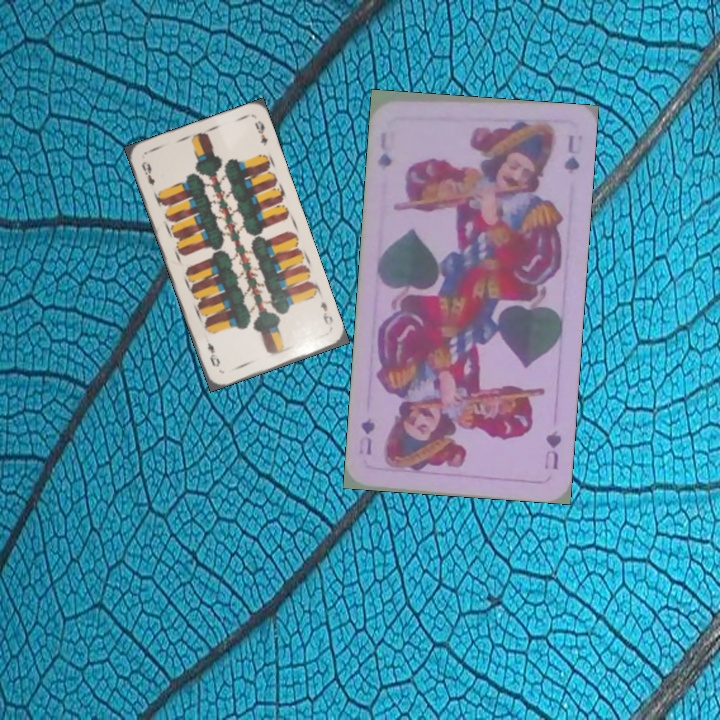E9: (137, 157, 157, 188), (316, 298, 336, 328)
GU: (540, 426, 564, 472), (373, 128, 396, 172)
